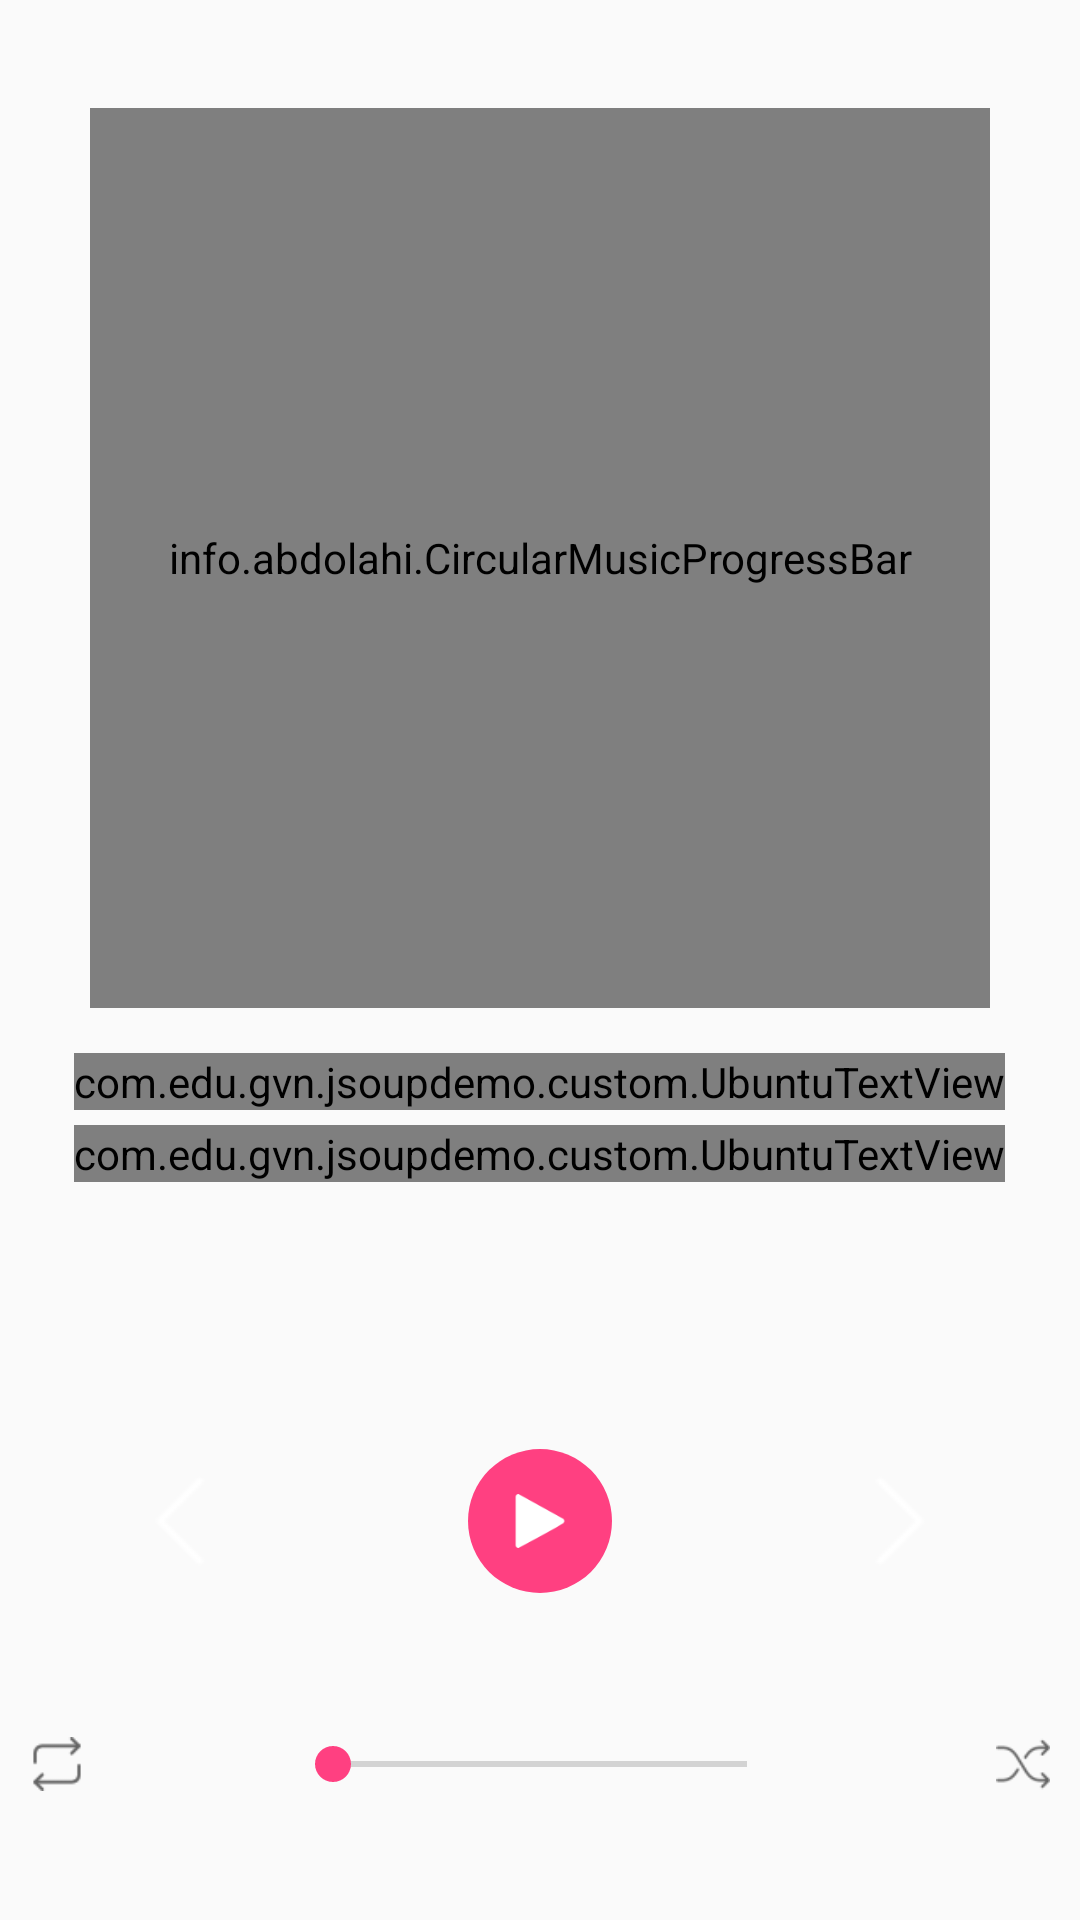

Screen size 1080 × 1920. Icon name, then its box in pixels as box(x1, y1, x2, y2):
state player: box(468, 1449, 612, 1593)
state repeat: box(33, 1737, 81, 1791)
state shuffle: box(996, 1740, 1050, 1789)
